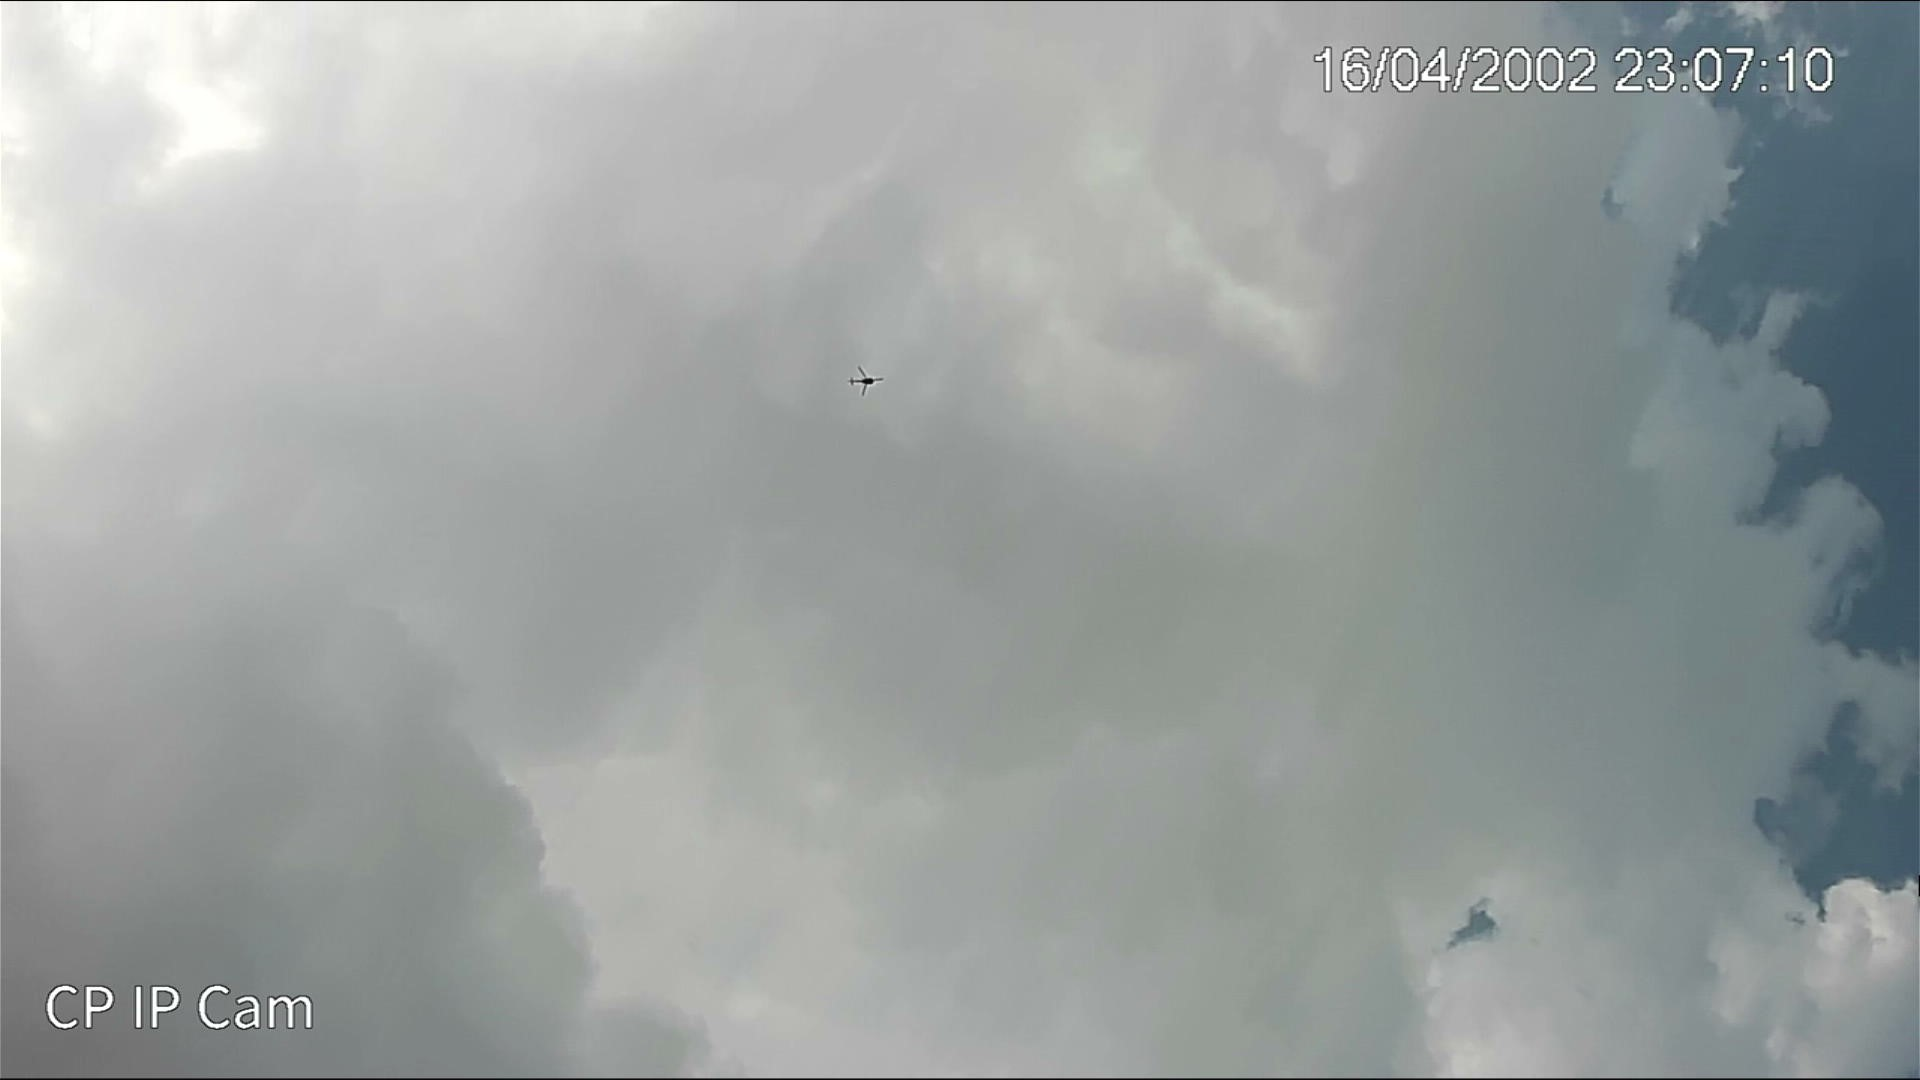SU_30: (847, 365, 885, 396)
